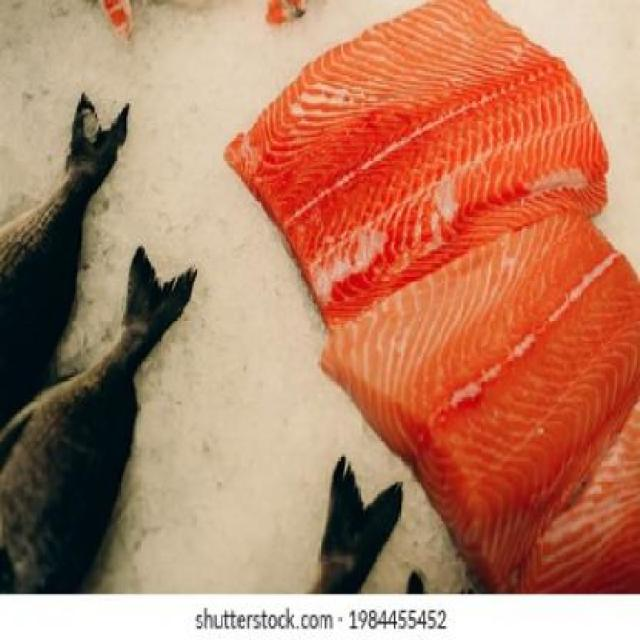salmon: (307, 187, 640, 578), (229, 5, 612, 318)
